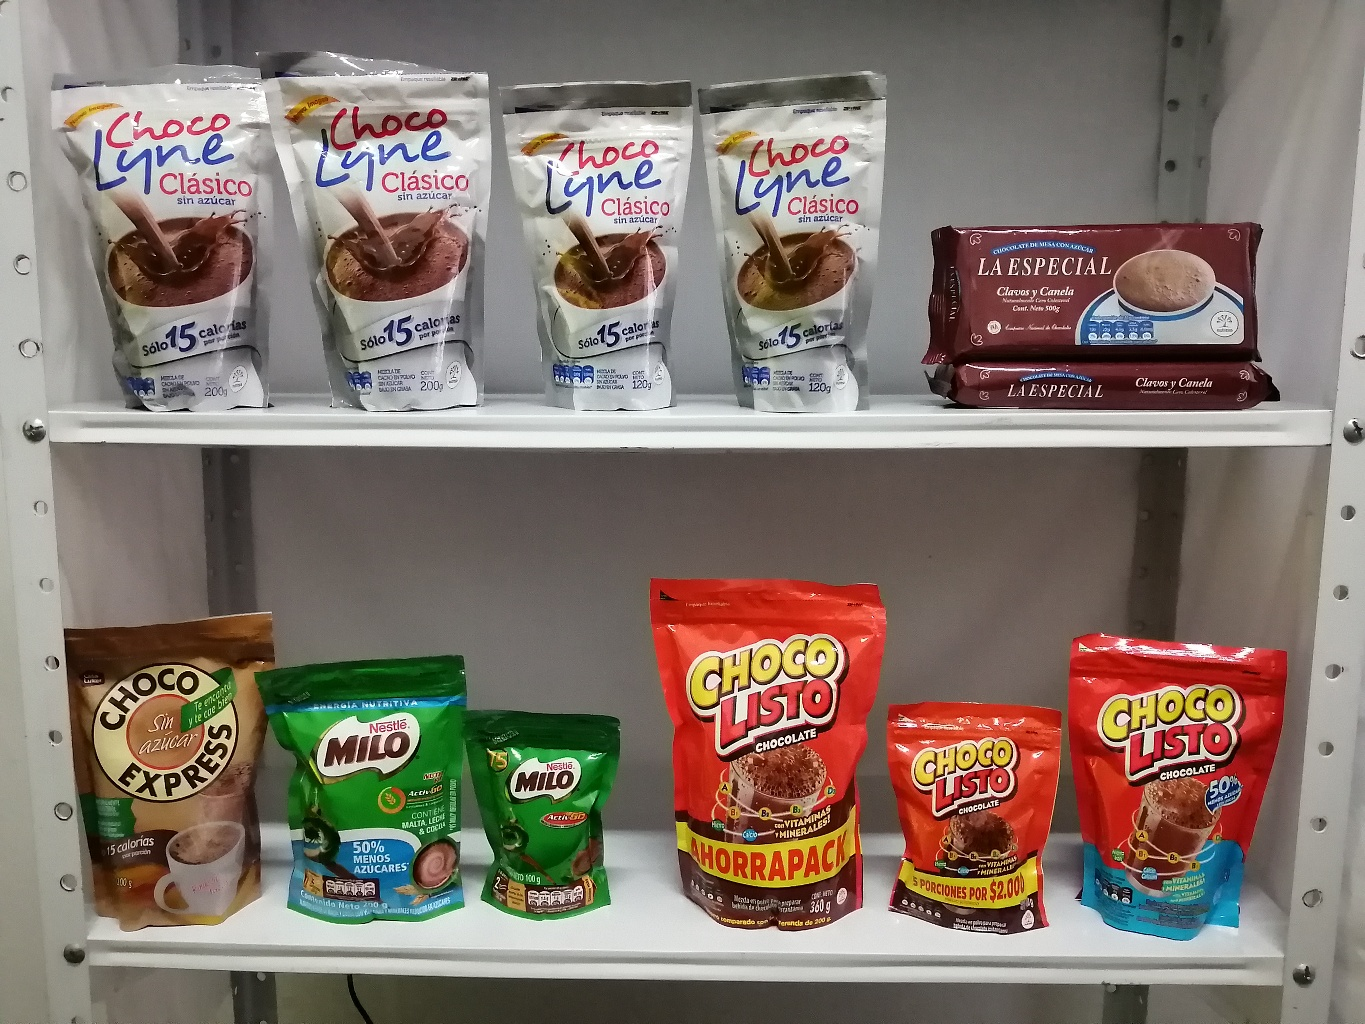COL0170103DYP36000: (646, 569, 897, 931)
COL0170104DYP20000: (1068, 630, 1291, 939)
COL0170203DYP10000: (475, 706, 624, 921)
COL0170205DYP20000: (257, 655, 469, 922)
